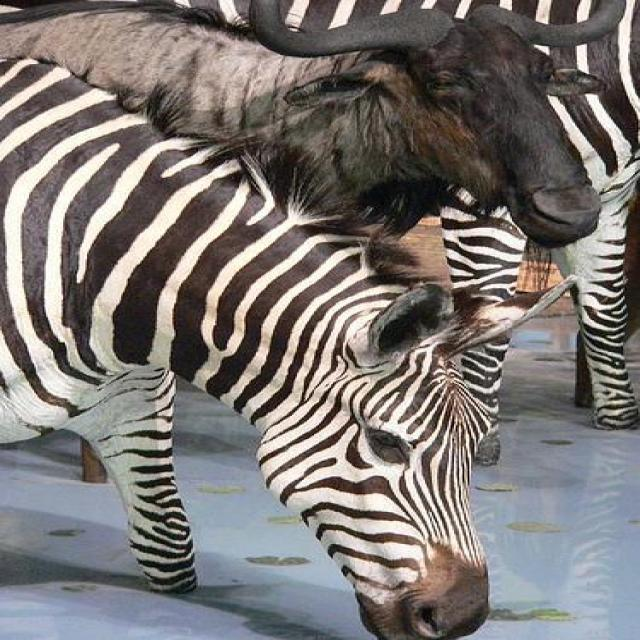Sheep: (5, 1, 633, 284)
